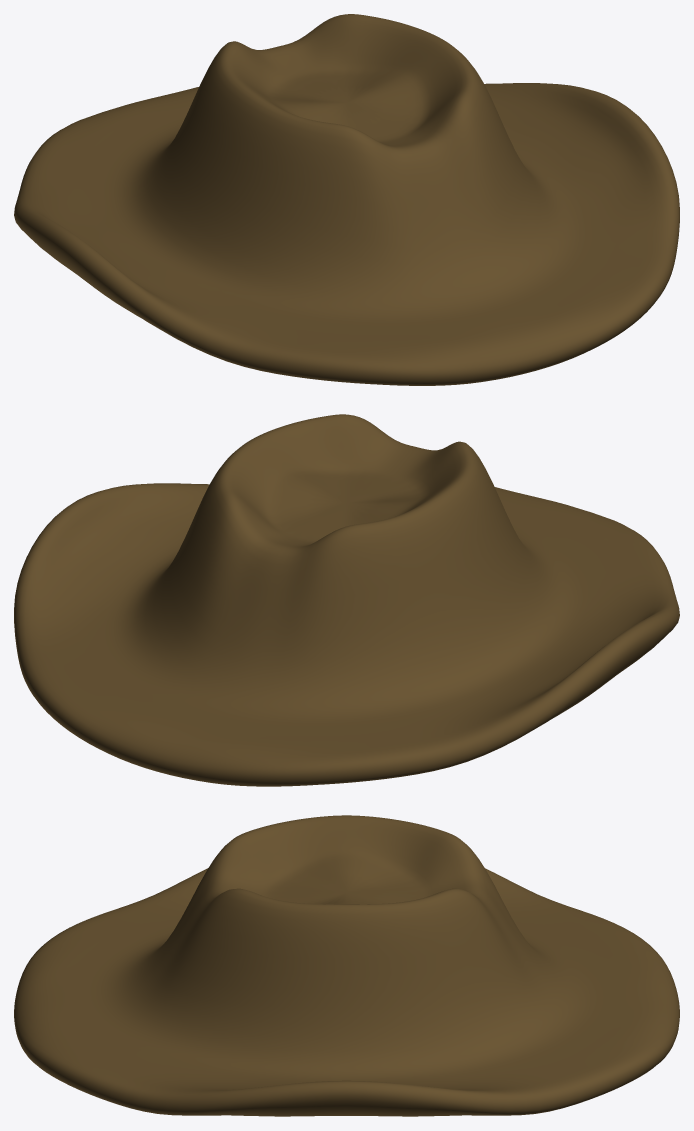
The model's file is Cowboy Hat.fbx.
The picture shows the model from 3 angles, top to bottom: view 1: azimuth 30°, elevation 25°; view 2: azimuth 150°, elevation 25°; view 3: azimuth 270°, elevation 25°; orthographic projection. The views are drawn at different scales.
Parts seen in each view (by area): view 1: Circle; view 2: Circle; view 3: Circle.
Boxes of the visible parts, x1=… form: Circle: x1=14, y1=14, x2=679, y2=385; Circle: x1=14, y1=414, x2=679, y2=786; Circle: x1=14, y1=815, x2=679, y2=1116.
Size of the model in its own units: 106 by 32.01 by 116.
